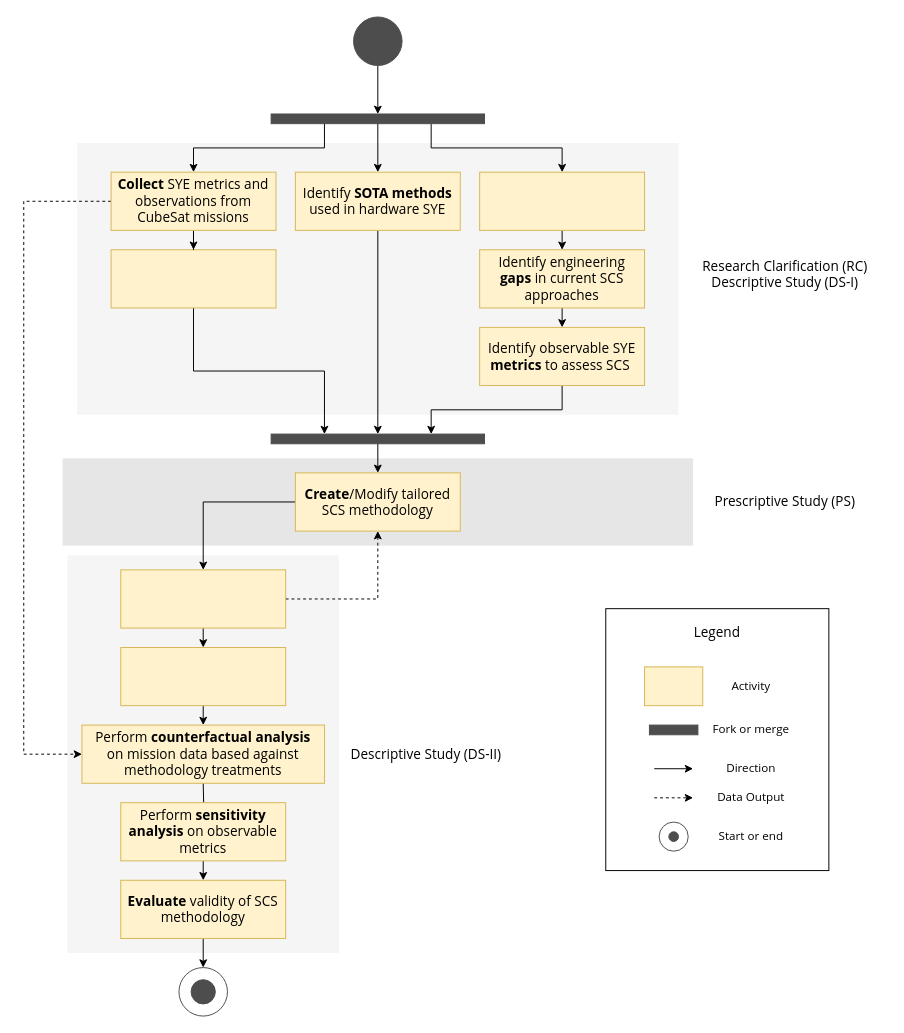
This 904x1033 diagram has some shape labels left out. The box of each missing label's shape, as (x1, y1, x2, y2) in pixels:
Apply tailored SCS methodology to in-house satellite projects: (120, 569, 286, 628)
Generate data on observable SYE metrics: (120, 647, 286, 706)
Identify SYE approaches used by current CubeSat missions: (110, 249, 276, 308)
Identify SYE approaches used by current SCS missions: (479, 171, 645, 230)
